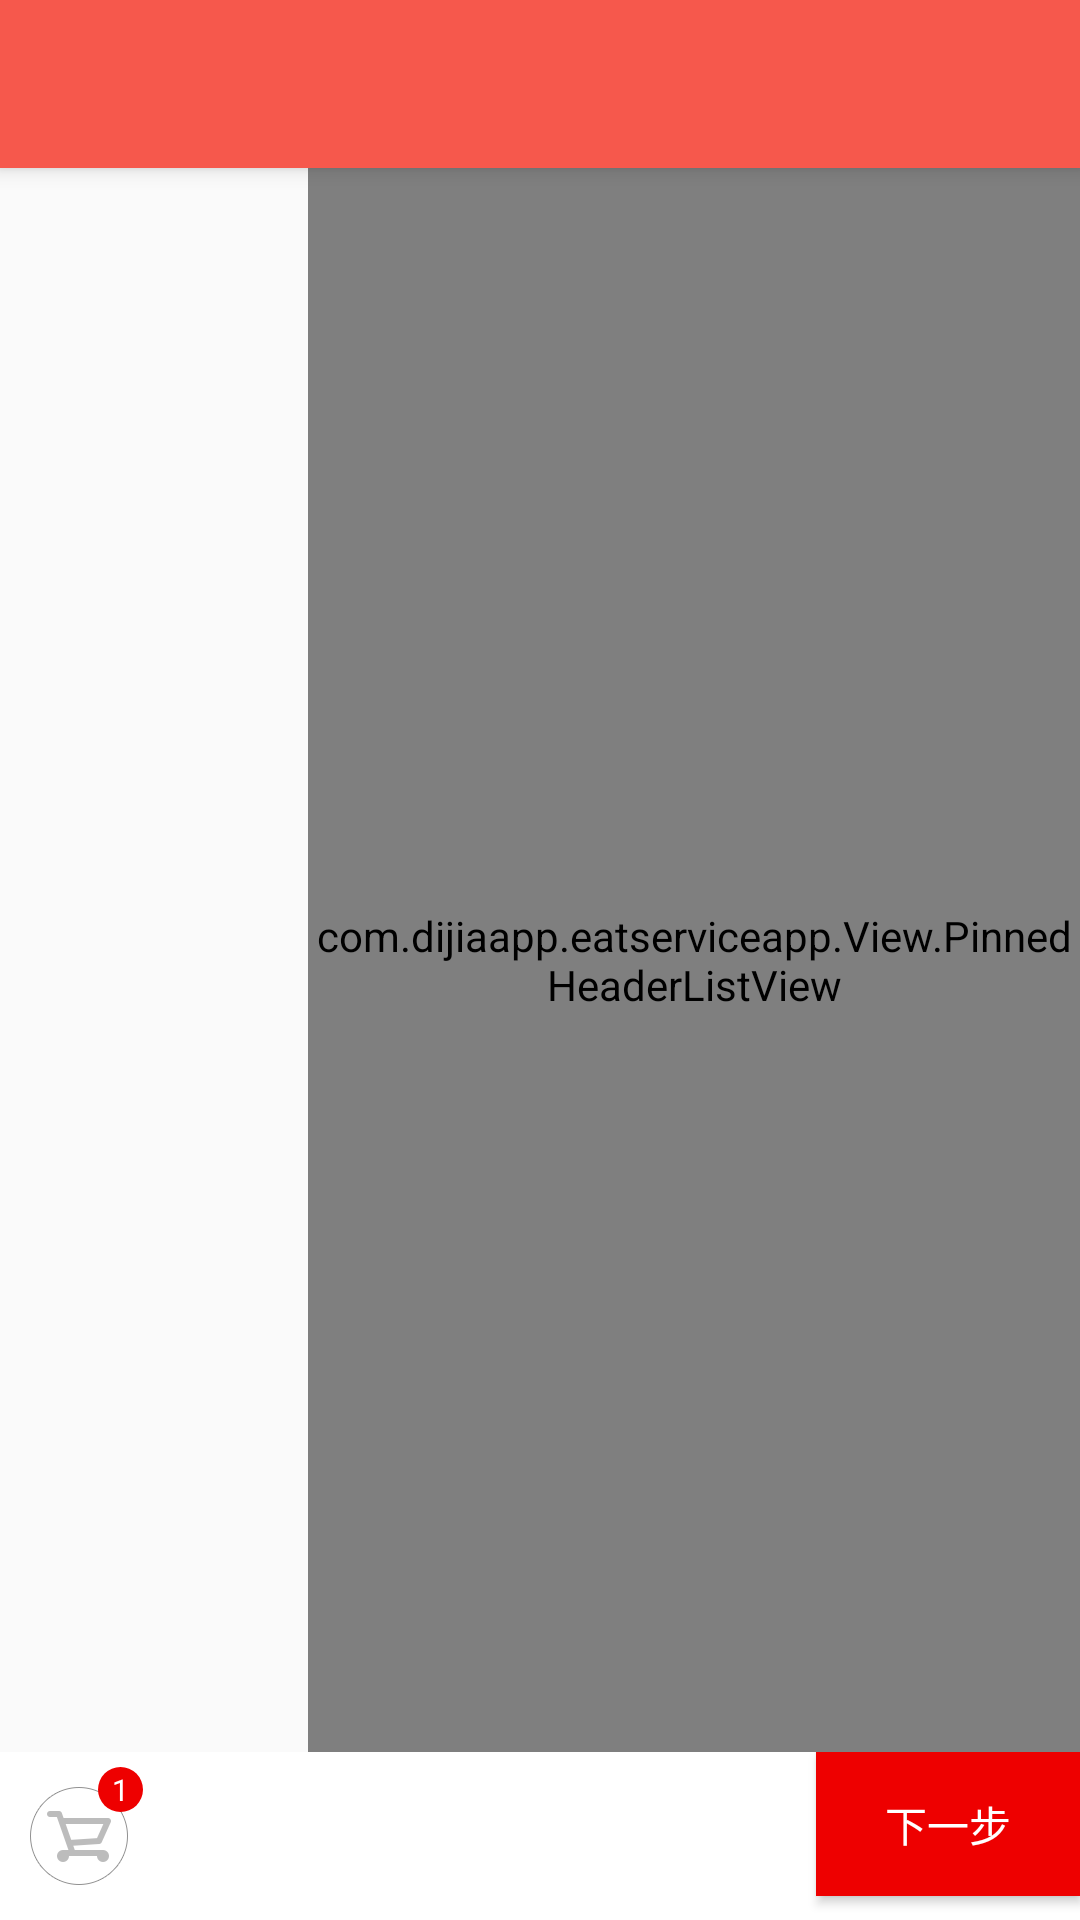

Where to tap for icons on this 1080*1920 app screen, as (x,y):
shopping: (86,1826)
